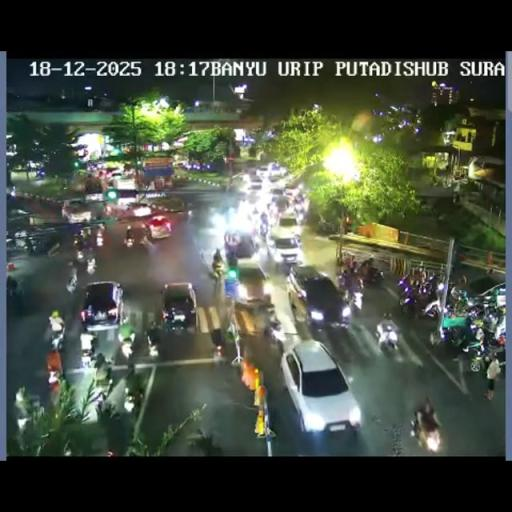Car: (279, 340, 361, 434), (286, 265, 348, 328), (80, 281, 125, 332), (229, 261, 270, 310), (158, 282, 198, 332), (270, 232, 303, 267), (224, 228, 257, 258), (108, 200, 153, 222), (472, 280, 506, 308), (144, 214, 173, 240), (274, 212, 302, 238), (147, 195, 185, 214), (62, 199, 92, 223), (109, 172, 140, 194), (243, 189, 263, 206), (266, 163, 286, 179), (246, 171, 262, 187), (268, 187, 286, 201)
Motorcycle: (73, 323, 141, 389), (438, 315, 478, 355), (398, 280, 440, 318), (412, 407, 442, 453), (477, 322, 505, 360), (376, 321, 399, 352), (342, 283, 364, 315), (92, 366, 112, 398), (358, 263, 384, 287), (267, 316, 287, 346), (6, 282, 24, 314), (94, 396, 117, 420), (48, 323, 66, 353), (463, 302, 486, 322), (449, 283, 468, 305), (146, 332, 162, 358), (468, 349, 485, 372), (122, 388, 137, 414), (81, 245, 97, 267), (316, 218, 338, 234), (120, 336, 134, 360), (211, 344, 226, 366), (80, 347, 94, 370), (338, 268, 352, 290), (211, 258, 225, 279), (429, 325, 443, 346), (141, 234, 157, 251), (66, 267, 76, 294), (24, 236, 38, 255), (268, 199, 278, 222), (49, 375, 60, 395), (80, 226, 91, 244), (124, 230, 134, 248), (72, 232, 82, 250), (348, 259, 358, 276), (259, 221, 268, 237), (94, 221, 106, 232), (226, 181, 234, 196), (187, 208, 194, 218)
